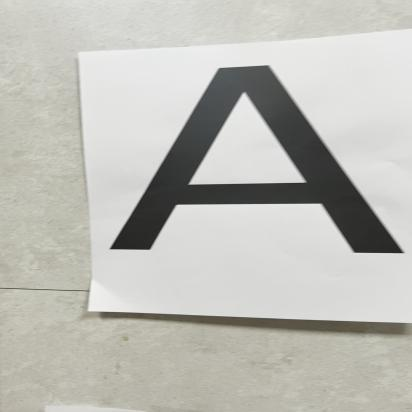seat: (93, 58, 412, 282)
